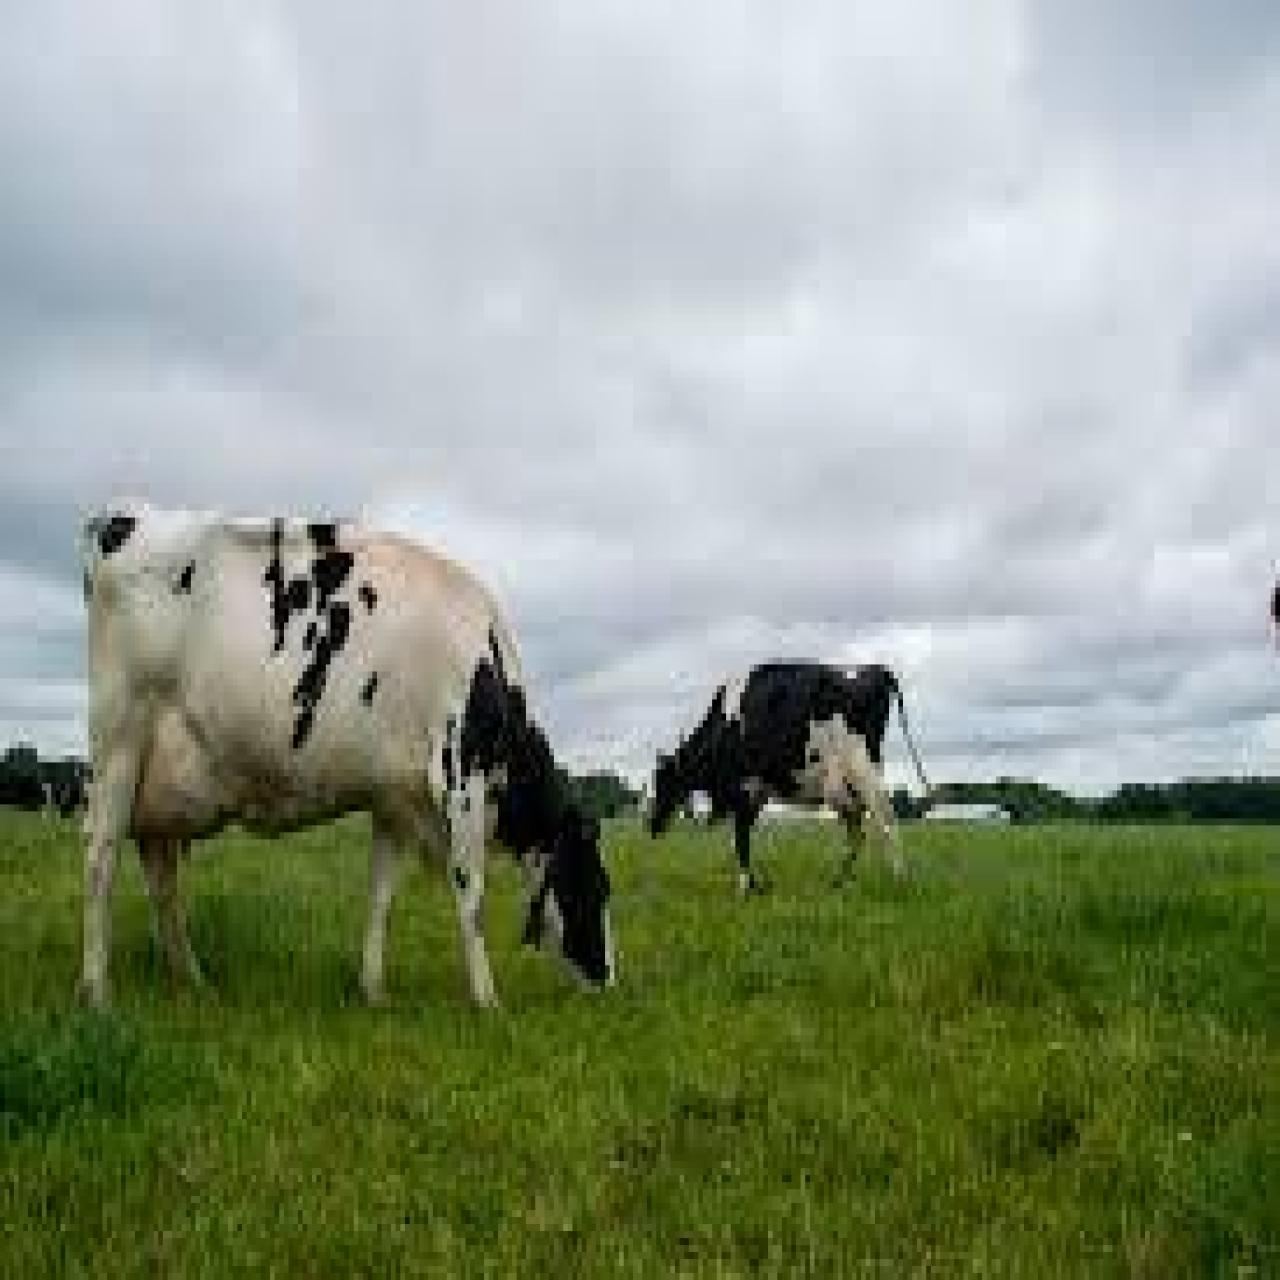cow: (81, 508, 617, 1017), (645, 658, 933, 903)
